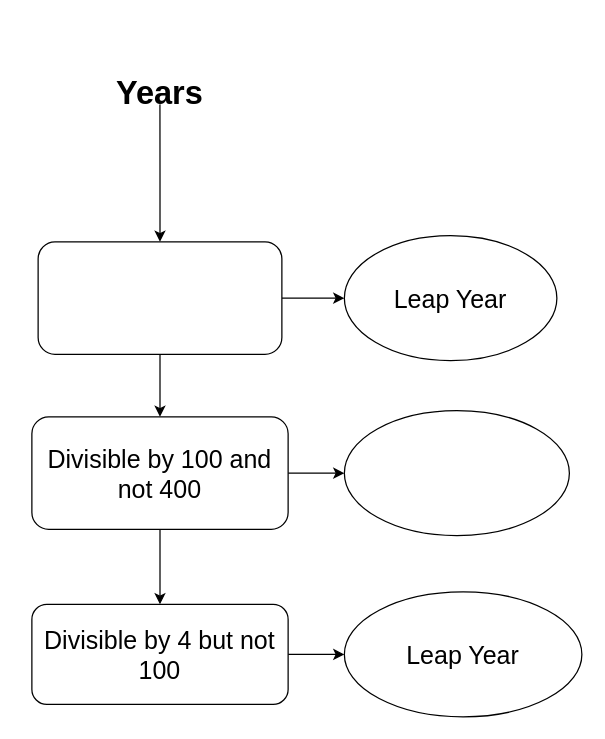
This 605x739 diagram has some shape labels left out. The shapes that lost their labels are listed below. From the top down, each one's box as (x1, y1, x2, y2) in pixels, then its label:
(37, 241, 282, 354): Divisible by 400
(343, 409, 569, 536): Not Leap Year
